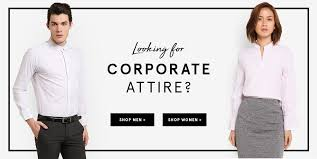F_belt: (34, 111, 85, 122)
F_dress pants: (35, 115, 89, 159)
F_shirt: (10, 37, 92, 121), (228, 33, 297, 118)
F_tailored skirt: (235, 89, 286, 159)
